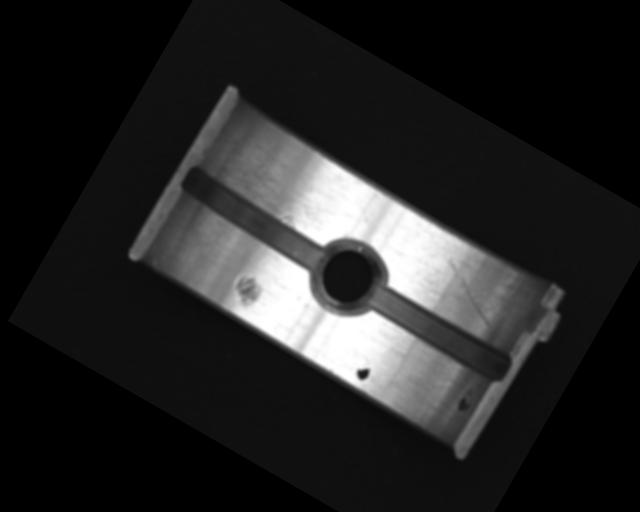blot: (453, 385, 478, 415), (352, 360, 374, 384)
bruise: (228, 271, 266, 310)
gap: (173, 161, 335, 276), (362, 279, 514, 385)
hole: (301, 228, 398, 328)
nick: (427, 254, 513, 330)
scratch: (200, 115, 365, 251)
